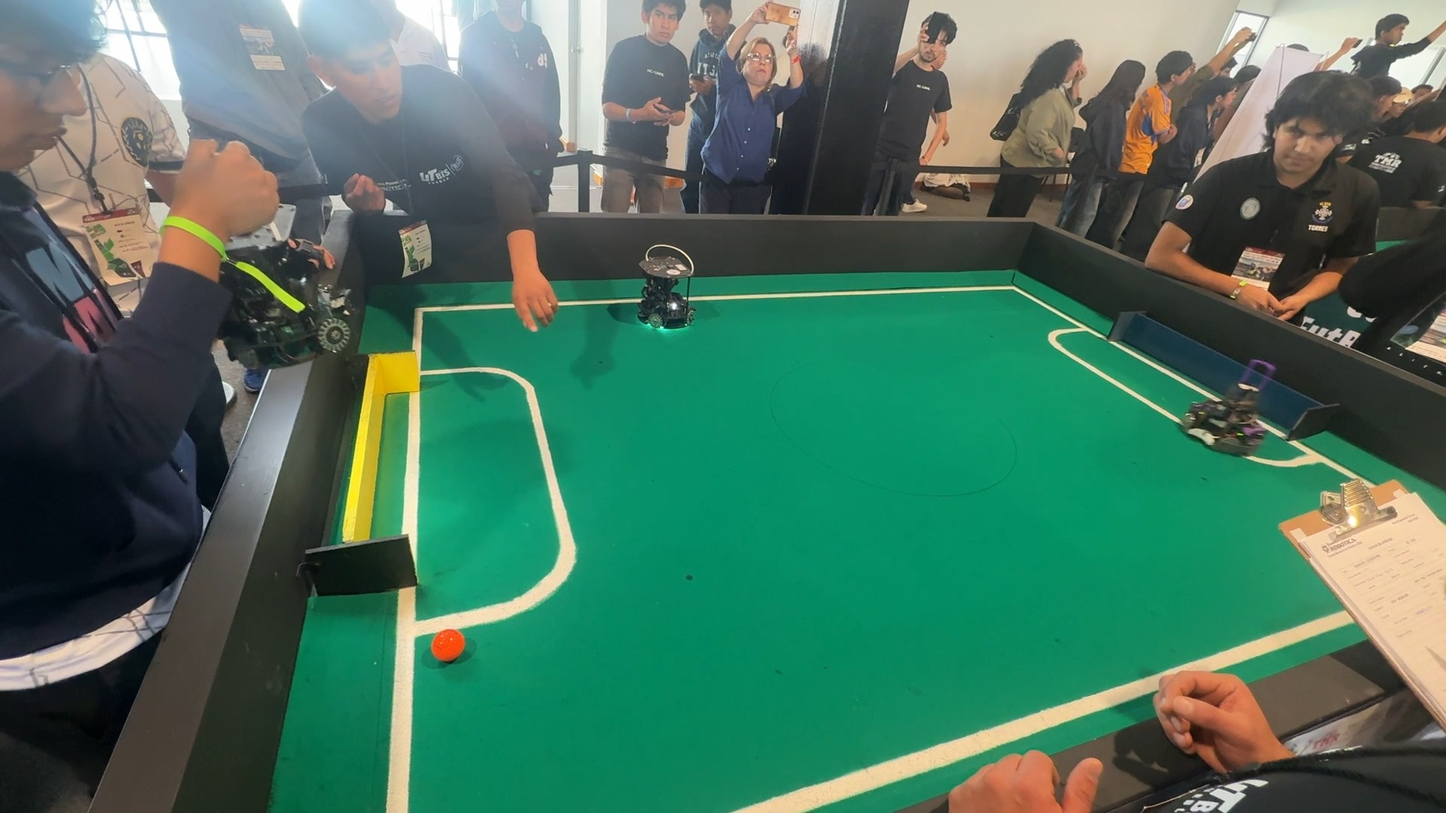Robot: (1168, 332, 1288, 468), (623, 244, 713, 346)
pelota: (422, 625, 472, 669)
